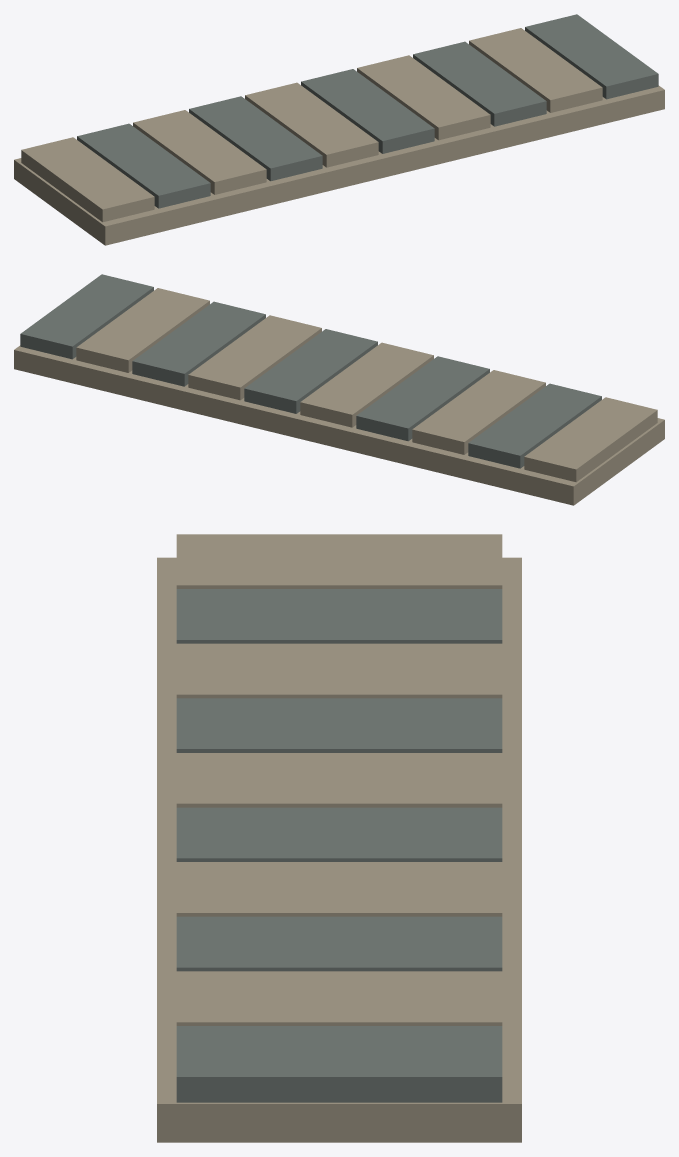
Rendered from 096_paver_path_segment.glb.
3 renders of one model, top to bottom at view 1: azimuth 30°, elevation 25°; view 2: azimuth 150°, elevation 25°; view 3: azimuth 270°, elevation 25°, orthographic. The views are drawn at different scales.
Visible parts, largest first — view 1: Paver path segment; view 2: Paver path segment; view 3: Paver path segment.
Part boxes in pixels (box(x1,y1,x2,y2)): Paver path segment: box(14, 14, 664, 245); Paver path segment: box(14, 274, 664, 505); Paver path segment: box(157, 534, 521, 1142).
Bounding box in the file's own units: 3.65 × 0.2 × 1.03.
